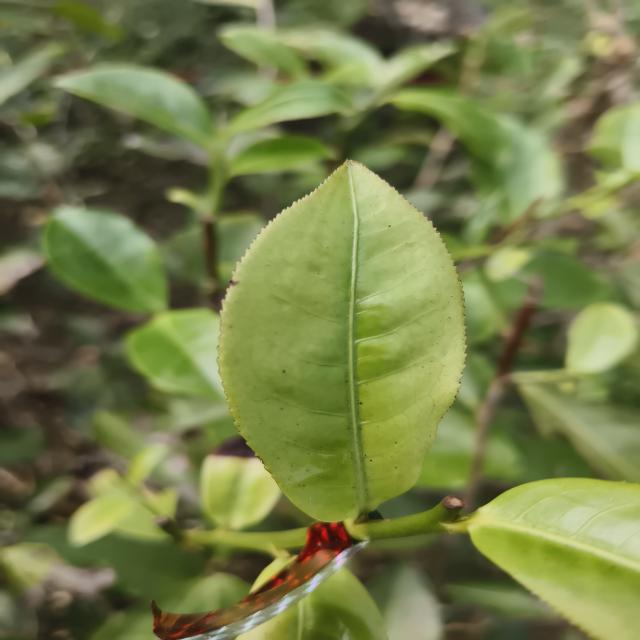Leaf: (219, 161, 465, 520), (464, 478, 640, 640), (41, 206, 168, 314), (55, 65, 214, 147), (236, 568, 386, 640), (126, 308, 225, 401), (200, 436, 281, 530), (229, 81, 351, 133), (565, 303, 638, 373), (229, 136, 331, 177), (69, 496, 134, 546)
